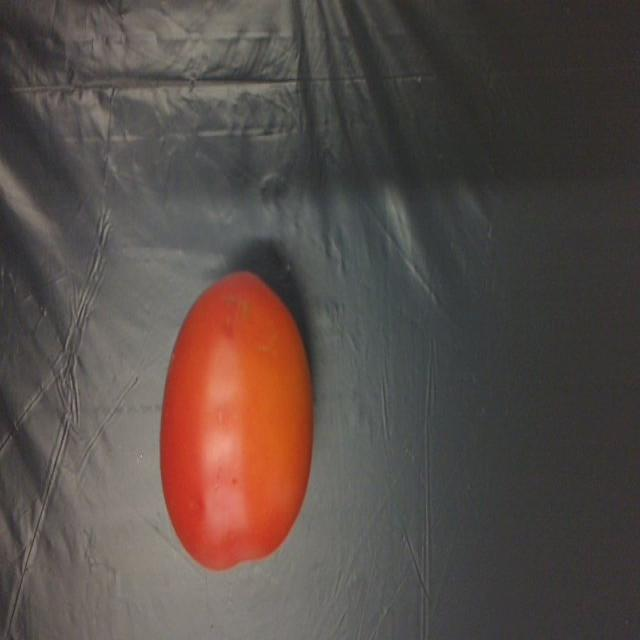kirmizi: (148, 251, 326, 583)
